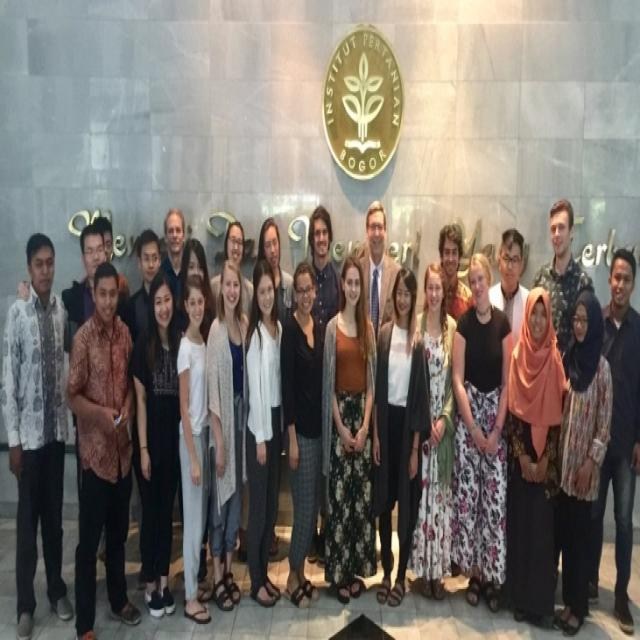body: (16, 222, 130, 506), (63, 258, 145, 640), (0, 228, 76, 640), (449, 249, 515, 616), (550, 284, 616, 638), (369, 264, 434, 612), (505, 281, 569, 632), (585, 244, 640, 637), (320, 249, 379, 608), (128, 265, 186, 624), (354, 198, 404, 574), (408, 258, 461, 605), (204, 254, 250, 616), (279, 260, 325, 611), (243, 253, 286, 610), (123, 223, 163, 594), (175, 270, 214, 629), (530, 196, 594, 345), (485, 225, 536, 359), (422, 220, 478, 329), (173, 236, 217, 350), (208, 219, 255, 322), (307, 203, 343, 330), (254, 216, 295, 326), (90, 214, 133, 306), (160, 204, 187, 300)
